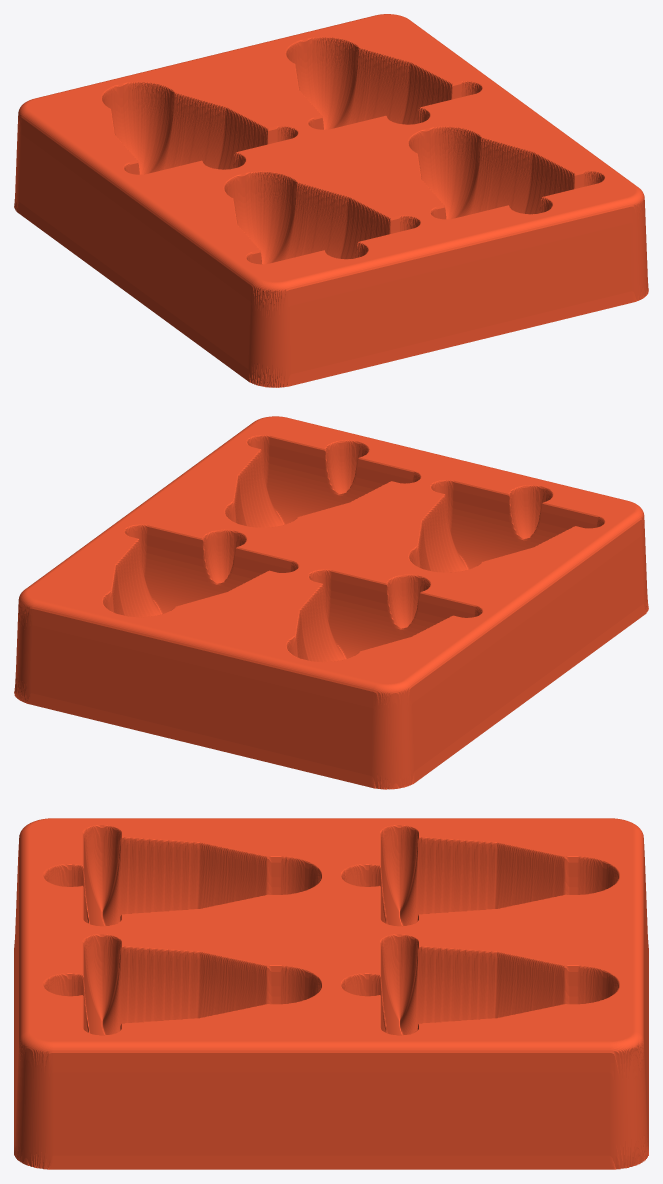
Rendered from mold.glb.
3 views of the same model, one above another, from view 1: azimuth 30°, elevation 25°; view 2: azimuth 150°, elevation 25°; view 3: azimuth 270°, elevation 25° (orthographic). The views are drawn at different scales.
Parts seen in each view (by area): view 1: geometry_0; view 2: geometry_0; view 3: geometry_0.
Boxes of the visible parts, x1,y1,x2,y2 form: geometry_0: [14, 14, 648, 387]; geometry_0: [14, 416, 648, 789]; geometry_0: [14, 818, 648, 1169].
Bounding box in the file's own units: 0.1286 × 0.031 × 0.1466.
